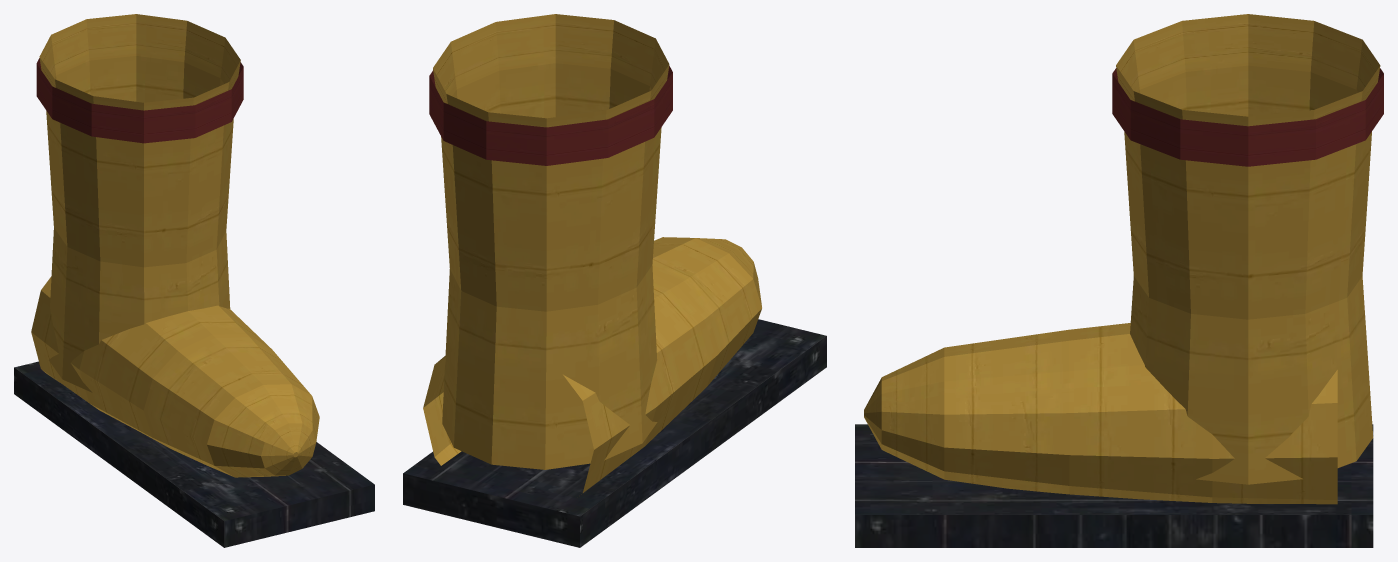
Rendered from eq_past_3_boot.glb.
The picture shows the model from 3 angles, left to right: view 1: azimuth 30°, elevation 25°; view 2: azimuth 150°, elevation 25°; view 3: azimuth 270°, elevation 25°; orthographic projection. The views are drawn at different scales.
Visible parts, largest first — view 1: eq_past_3_boot; view 2: eq_past_3_boot; view 3: eq_past_3_boot.
Part boxes in pixels (left/top/right/bottom): eq_past_3_boot: left=14, top=14, right=374, bottom=547; eq_past_3_boot: left=403, top=14, right=826, bottom=547; eq_past_3_boot: left=855, top=14, right=1383, bottom=547.
Bounding box in the file's own units: 0.1512 × 0.297 × 0.3197.
Materials: 3 (3 with a texture image).
